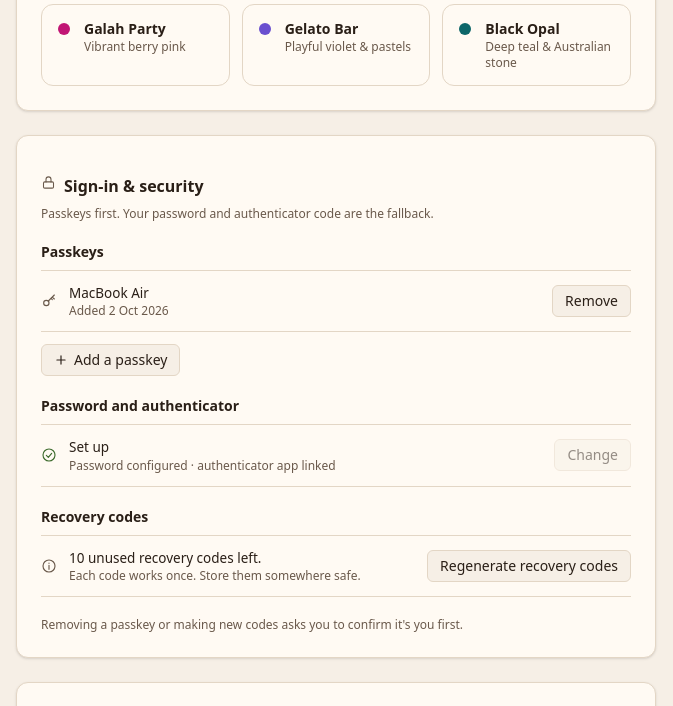
Scenario: SettingsPage › displays passkey error if passkey addition fails
(page scrolled)
Click the button "Add a passkey".
click(111, 360)  # box [41,344,180,376]
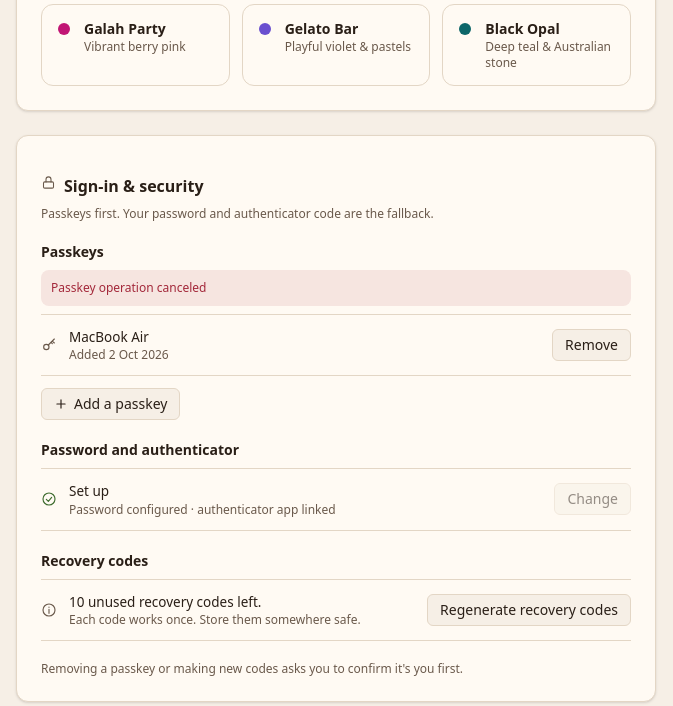
expect the text "Passkey operation canceled" is shown: met, box [41,270,631,306]
